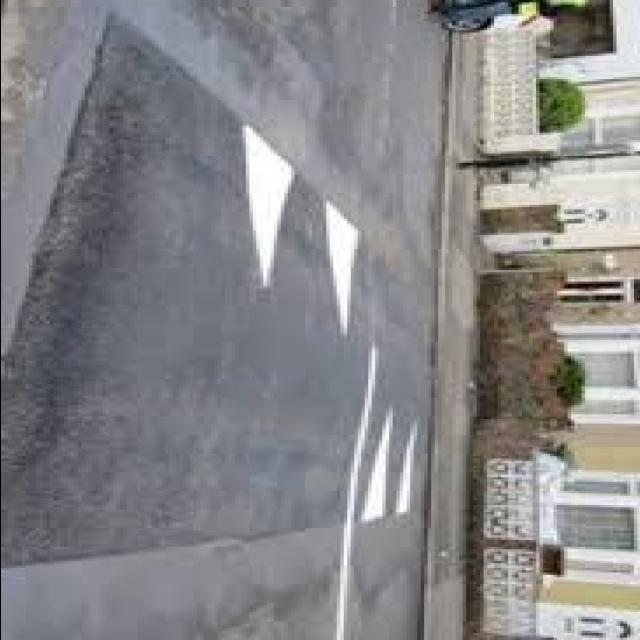speedbreaker: (56, 31, 426, 532)
